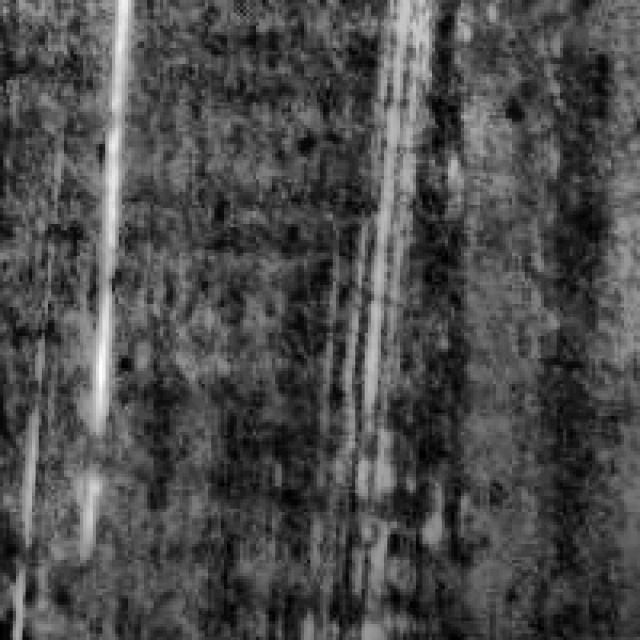Inclusion: (70, 0, 128, 541), (346, 93, 410, 410)
